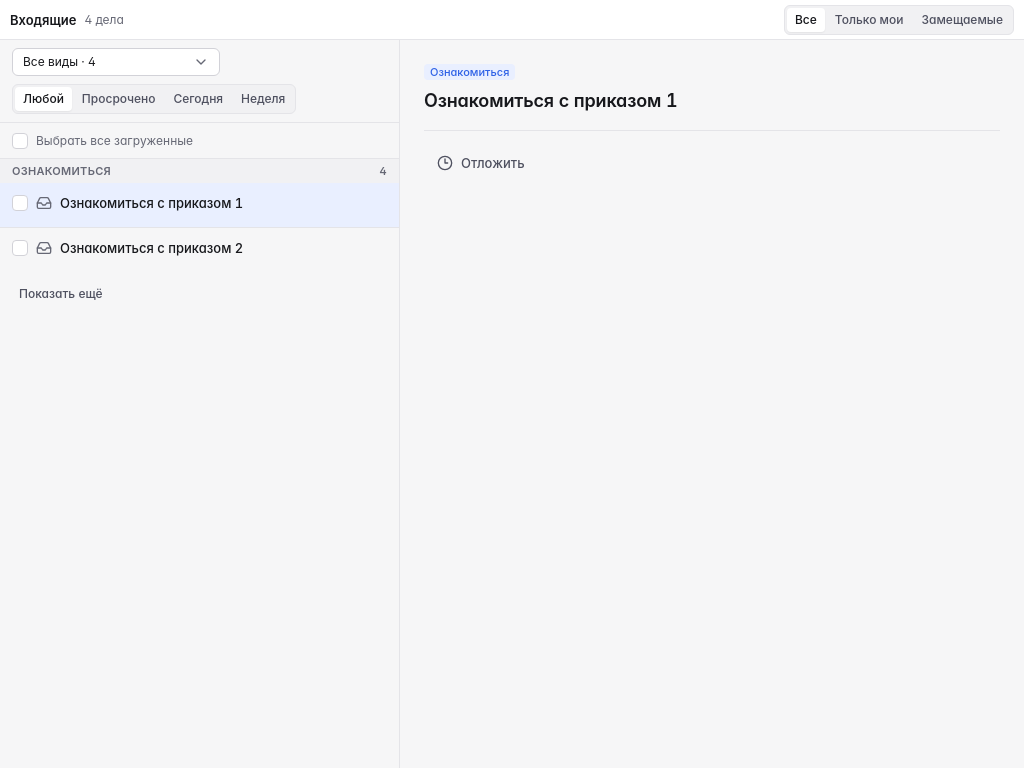
Test: InboxScreen › «Показать ещё» догружает страницу, даже если её отменило перечитывание списка
Expected: the number of options is 2, left=36, top=183, right=399, bottom=227; left=36, top=228, right=399, bottom=272
Click the button "Показать ещё" at (61, 294), box left=8, top=280, right=114, bottom=308
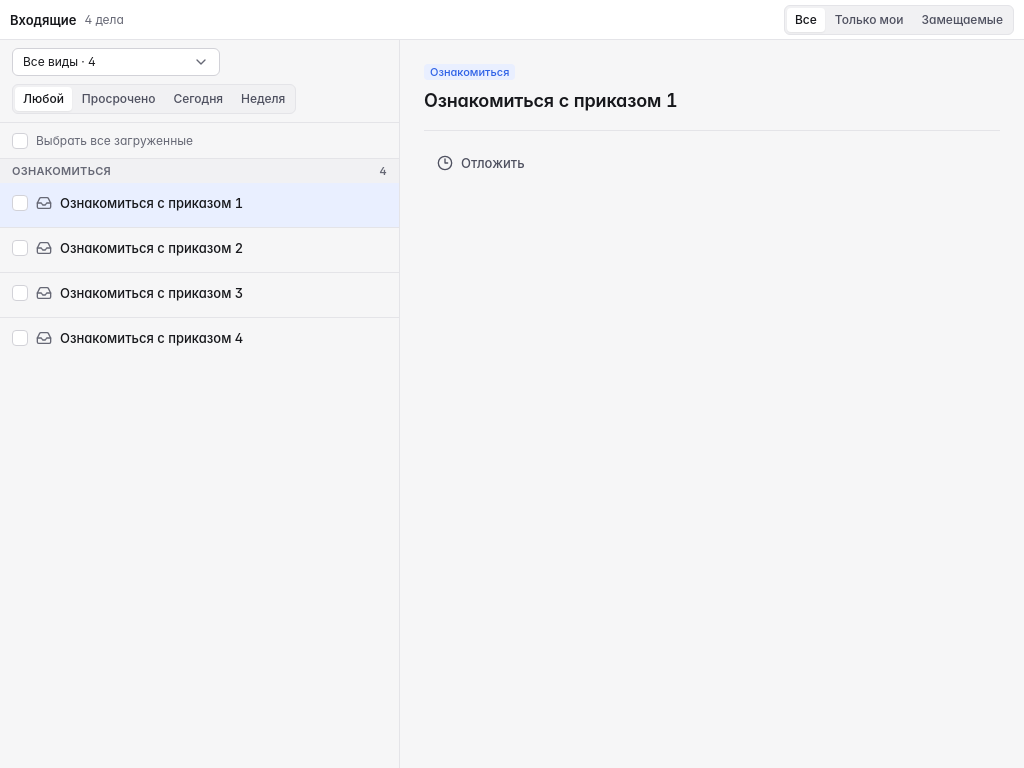
Expected: the number of options is 4, left=36, top=183, right=399, bottom=227; left=36, top=228, right=399, bottom=272; left=36, top=273, right=399, bottom=317; left=36, top=318, right=399, bottom=362
Expected: the button "Показать ещё" is gone
